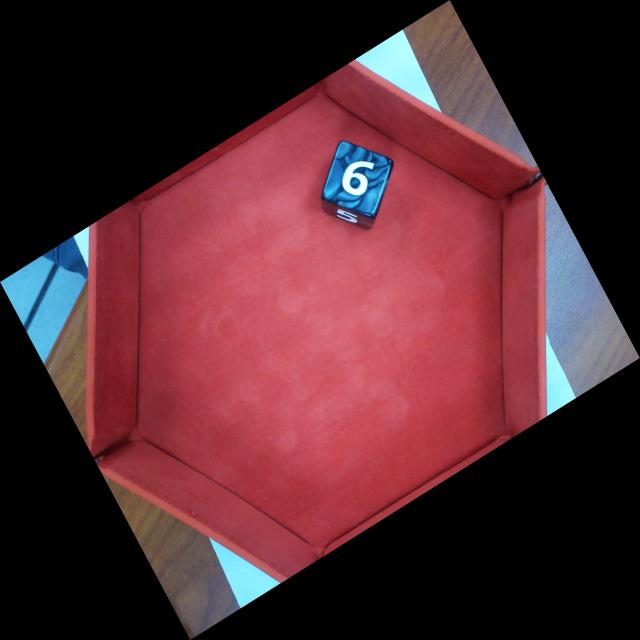dice: (319, 137, 396, 222)
